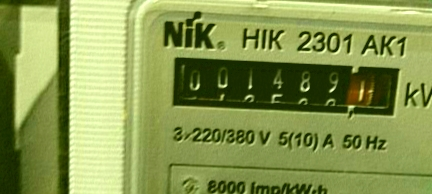0: (213, 64, 229, 90), (186, 68, 201, 93)
1: (242, 64, 256, 94), (353, 74, 366, 104)
4: (269, 66, 285, 93)
8: (295, 67, 312, 95)
9: (324, 70, 339, 95)
screen: (156, 47, 414, 131)
